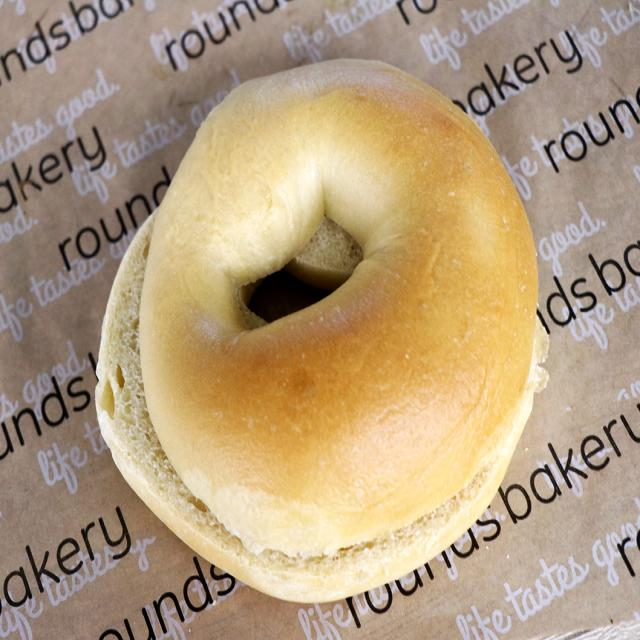Bagel: (96, 60, 549, 602)
